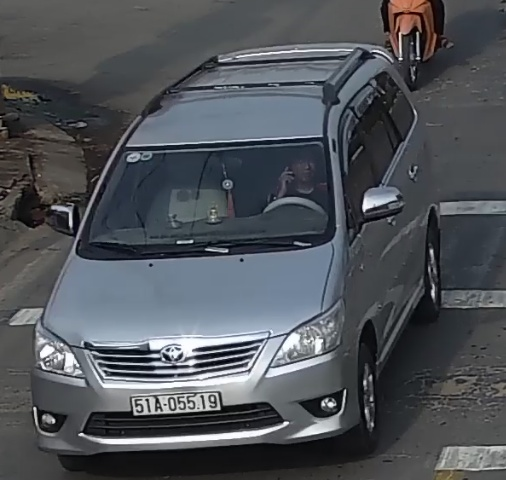vehicle plate: (126, 388, 226, 417)
